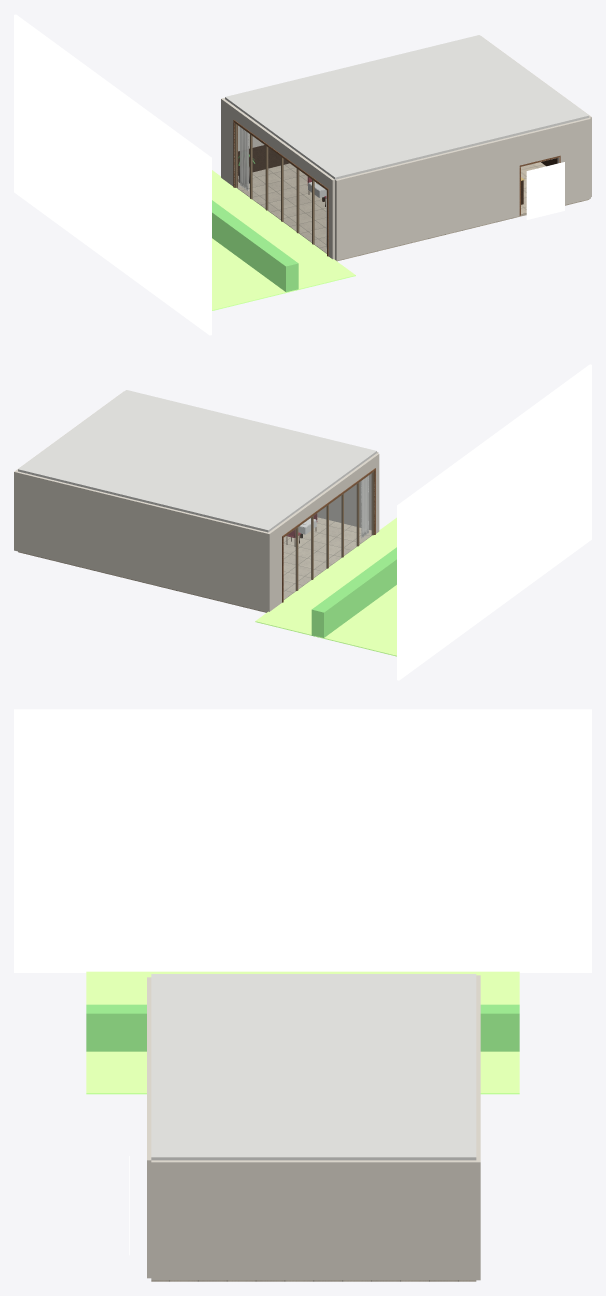
The model's file is room_fine_dining.glb.
3 views of the same model, one above another, from view 1: azimuth 30°, elevation 25°; view 2: azimuth 150°, elevation 25°; view 3: azimuth 270°, elevation 25° (orthographic). The views are drawn at different scales.
Visible parts, largest first — view 1: Room; view 2: Room; view 3: Room.
Boxes of the visible parts, left/top/right/bottom form: Room: left=14, top=14, right=591, bottom=335; Room: left=14, top=364, right=591, bottom=680; Room: left=14, top=709, right=591, bottom=1281.
Bounding box in the file's own units: 20.23 × 8.1 × 16.
47 materials, 4 textured.
